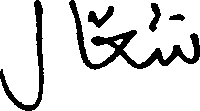ا: (69, 0, 87, 68)
ش: (157, 1, 199, 66)
ع: (93, 3, 136, 70)
ل: (0, 0, 43, 110)
